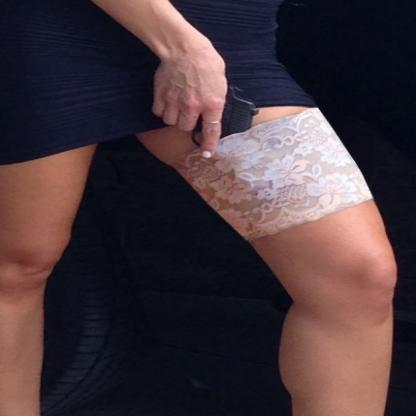gun: (152, 64, 259, 168)
